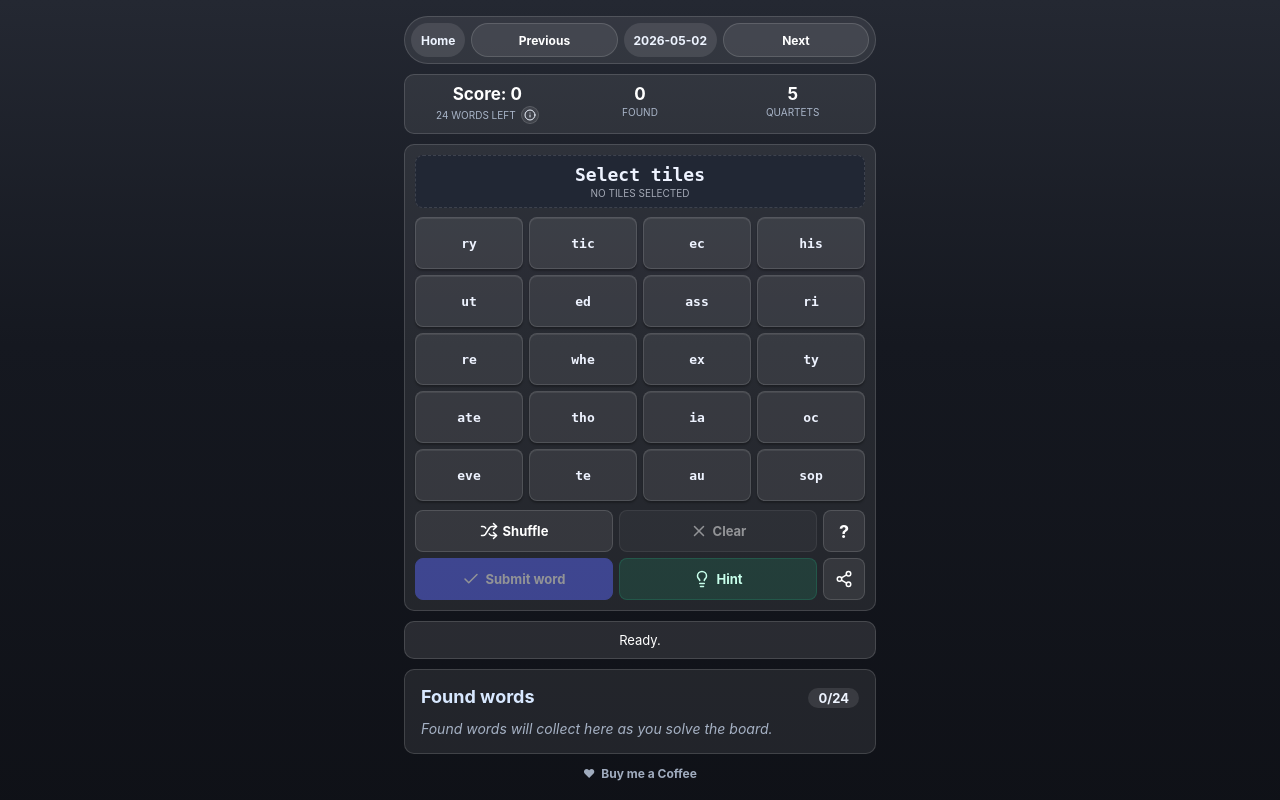
Test: lexitiles app › opens a how-to-play modal from the question mark control
What coordinates should you click on to do the following:
click the button named "how to play"
I would click on:
 (844, 531)
Its box is [823,510,865,552].
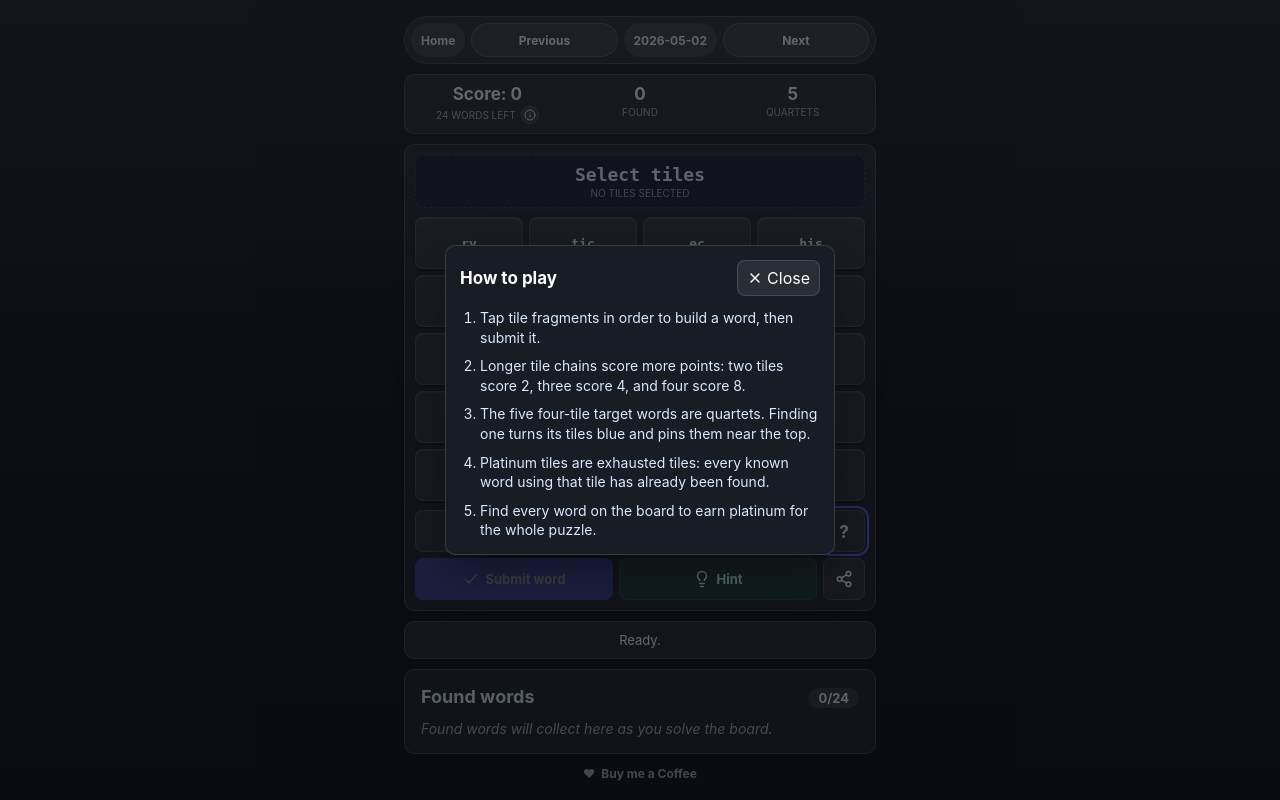
Check: the list item "five four-tile target words are quartets" is shown, box [480,405,818,442]
Check: the list item "Platinum tiles are exhausted tiles" is shown, box [480,454,789,490]
What coordinates should you click on to do the following:
click the button "Close"
I would click on:
 (779, 278)
Its box is [737,260,820,296].
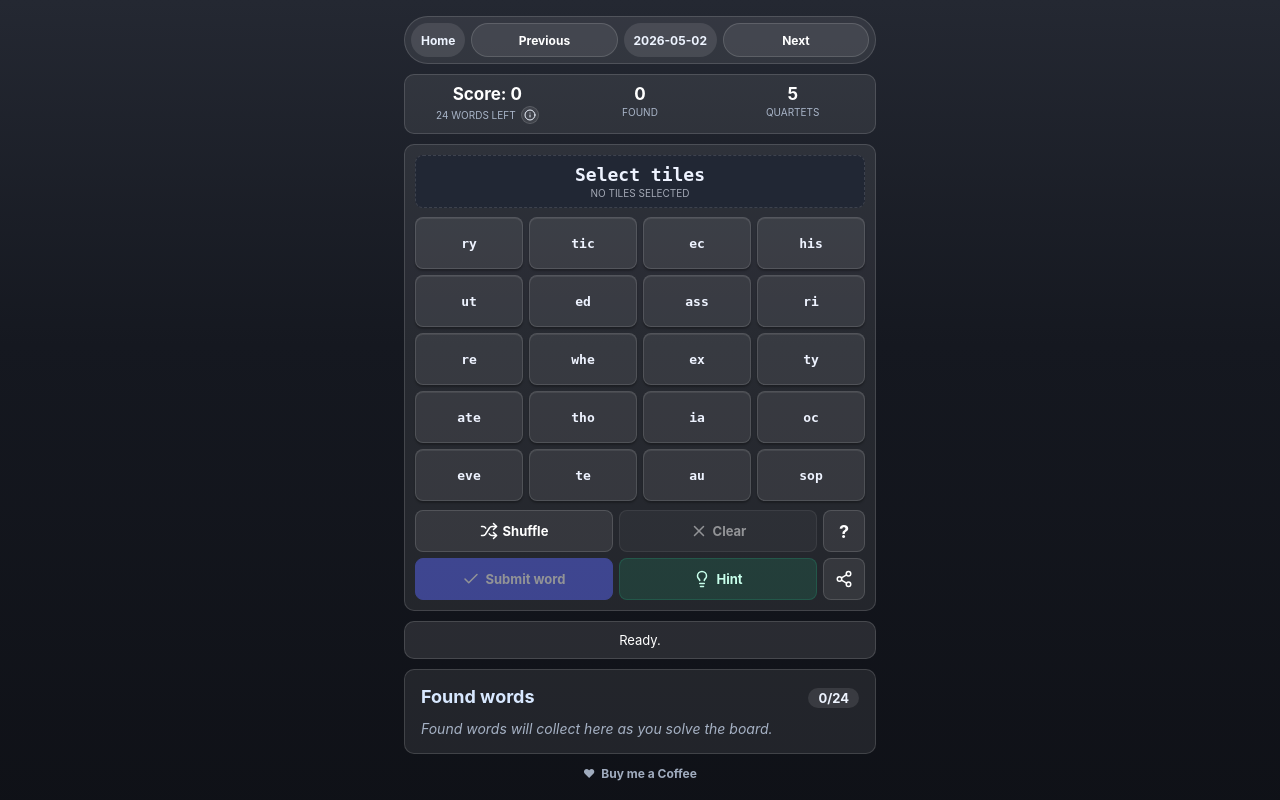
Check: the heading "How to play" is gone
